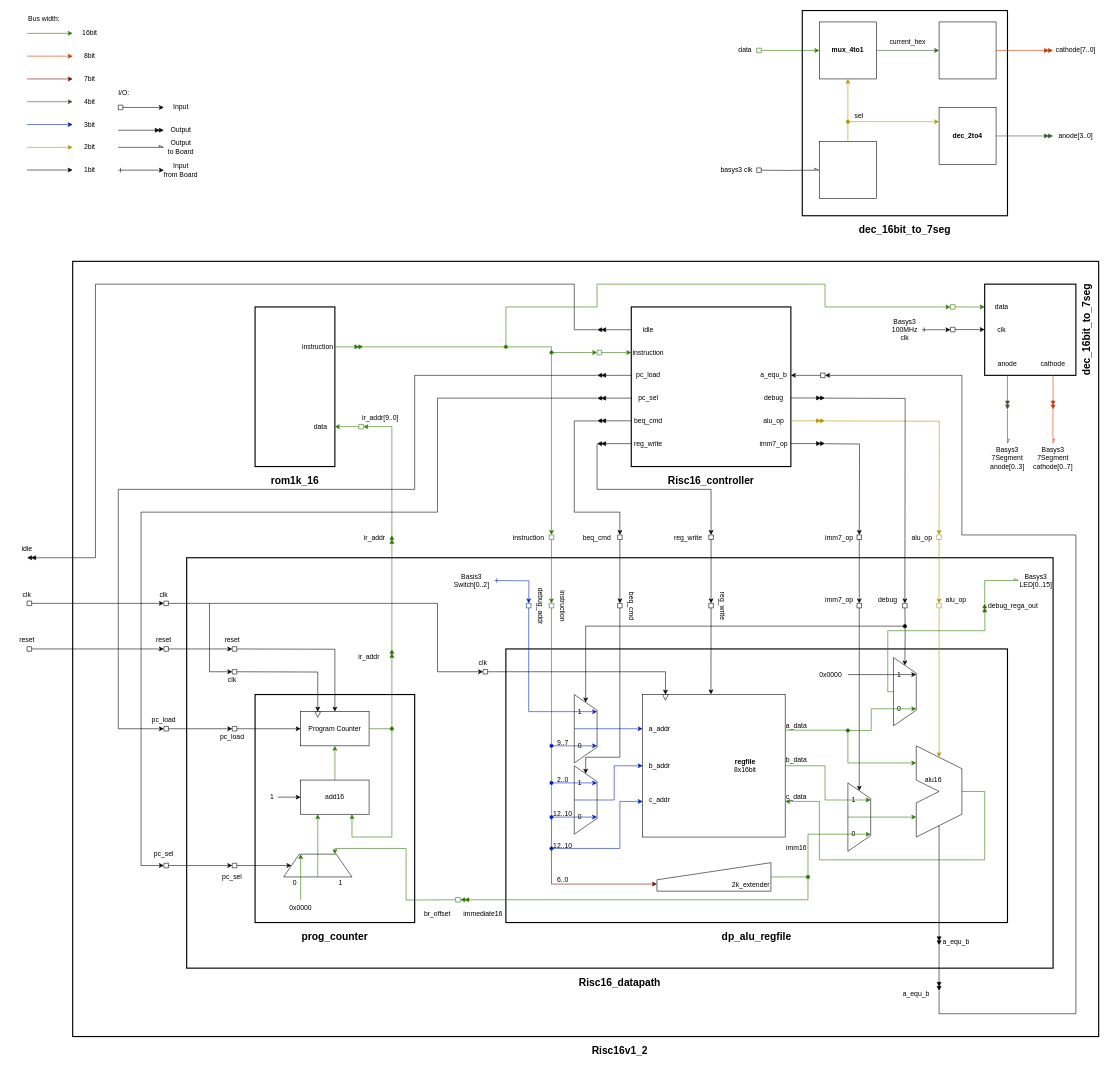
The diagram is 1109 pixels wide and 1069 high, and some of its shapes have lost their labels. Here are the shapes that lost their labels. From the top down, the box of each, then its label:
(939, 21, 996, 79): dec_hexto7seg
(819, 141, 876, 199): counter_2bit
(283, 854, 352, 877): mux_2to1
